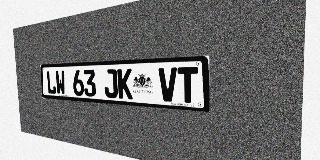3: (83, 70, 96, 97)
6: (72, 70, 84, 96)
J: (104, 69, 118, 98)
K: (117, 69, 133, 99)
L: (46, 71, 56, 94)
T: (178, 67, 198, 104)
V: (158, 67, 177, 102)
W: (55, 70, 66, 95)
